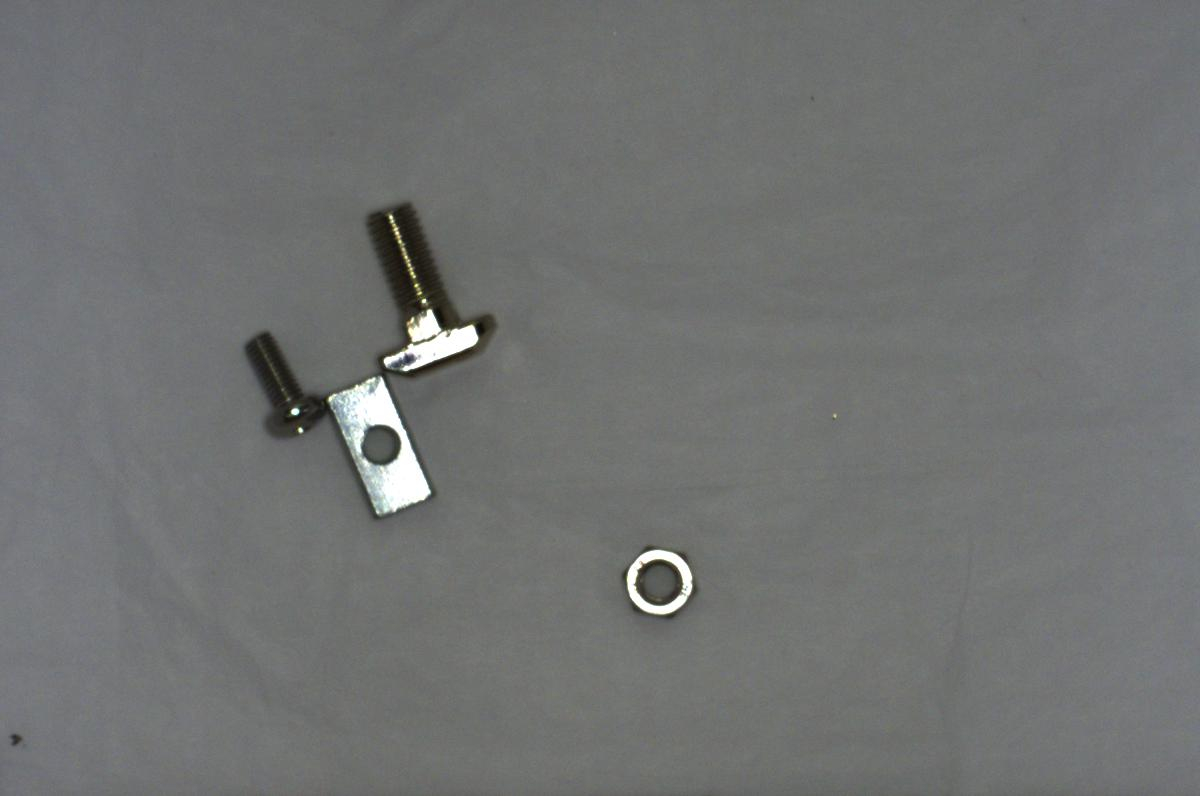Hexagon nut: (614, 540, 699, 623)
Rectangular nut: (319, 370, 435, 522)
Round head screw: (241, 323, 325, 440)
T-shaped screw: (355, 192, 508, 376)
